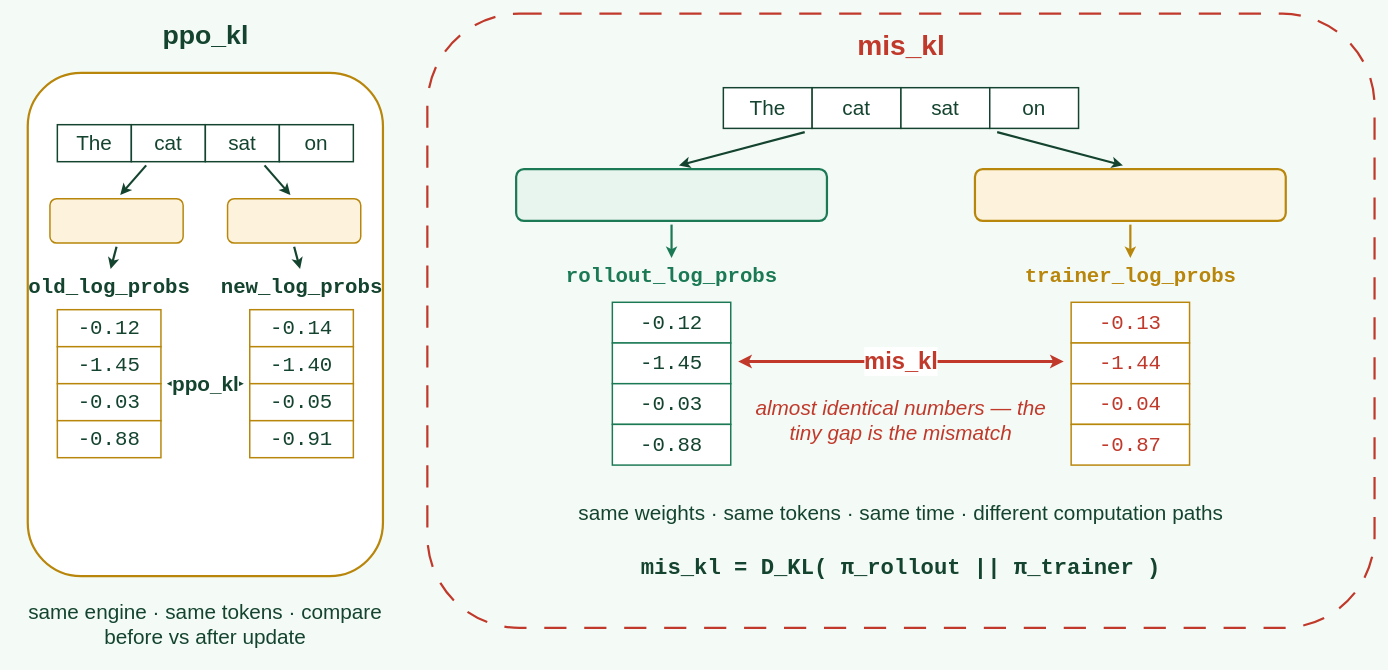
The diagram is 1388 pixels wide and 670 high, and some of its shapes have lost their labels. The box of each missing label's shape, as (x1, y1, x2, y2) in pixels:
rollout / SGLang: (515, 168, 828, 222)
training / Megatron: (973, 168, 1286, 222)
training engine: (26, 71, 384, 577)
weights at t: (49, 198, 184, 243)
weights at t+1: (226, 198, 361, 243)
